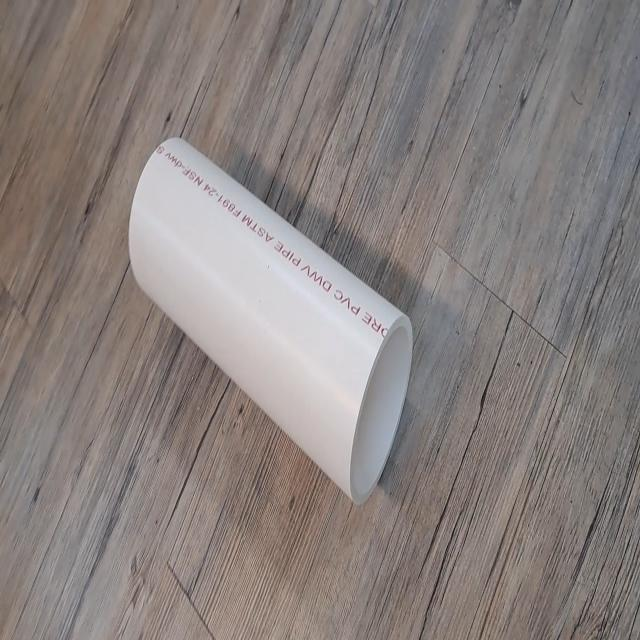CORAL: (120, 126, 422, 515)
